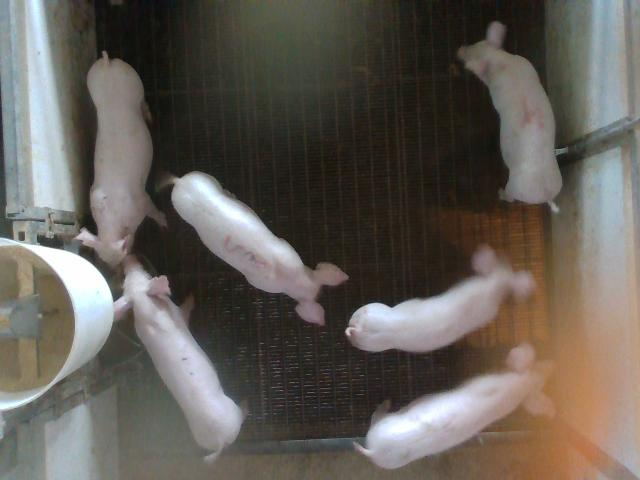pig-3: (156, 171, 349, 324)
pig-4: (458, 21, 562, 212)
